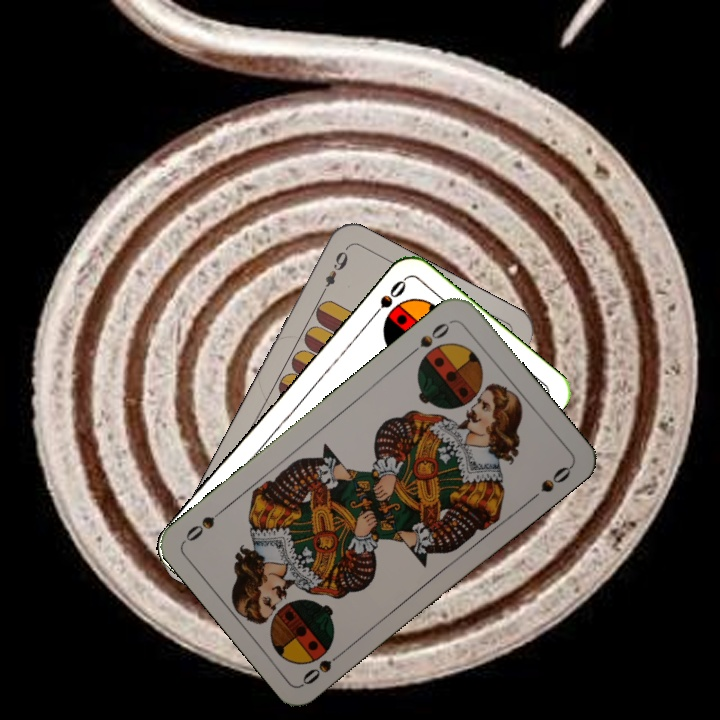E9: (316, 245, 351, 299)
SO: (298, 645, 349, 688), (365, 275, 409, 324), (405, 318, 452, 359)
